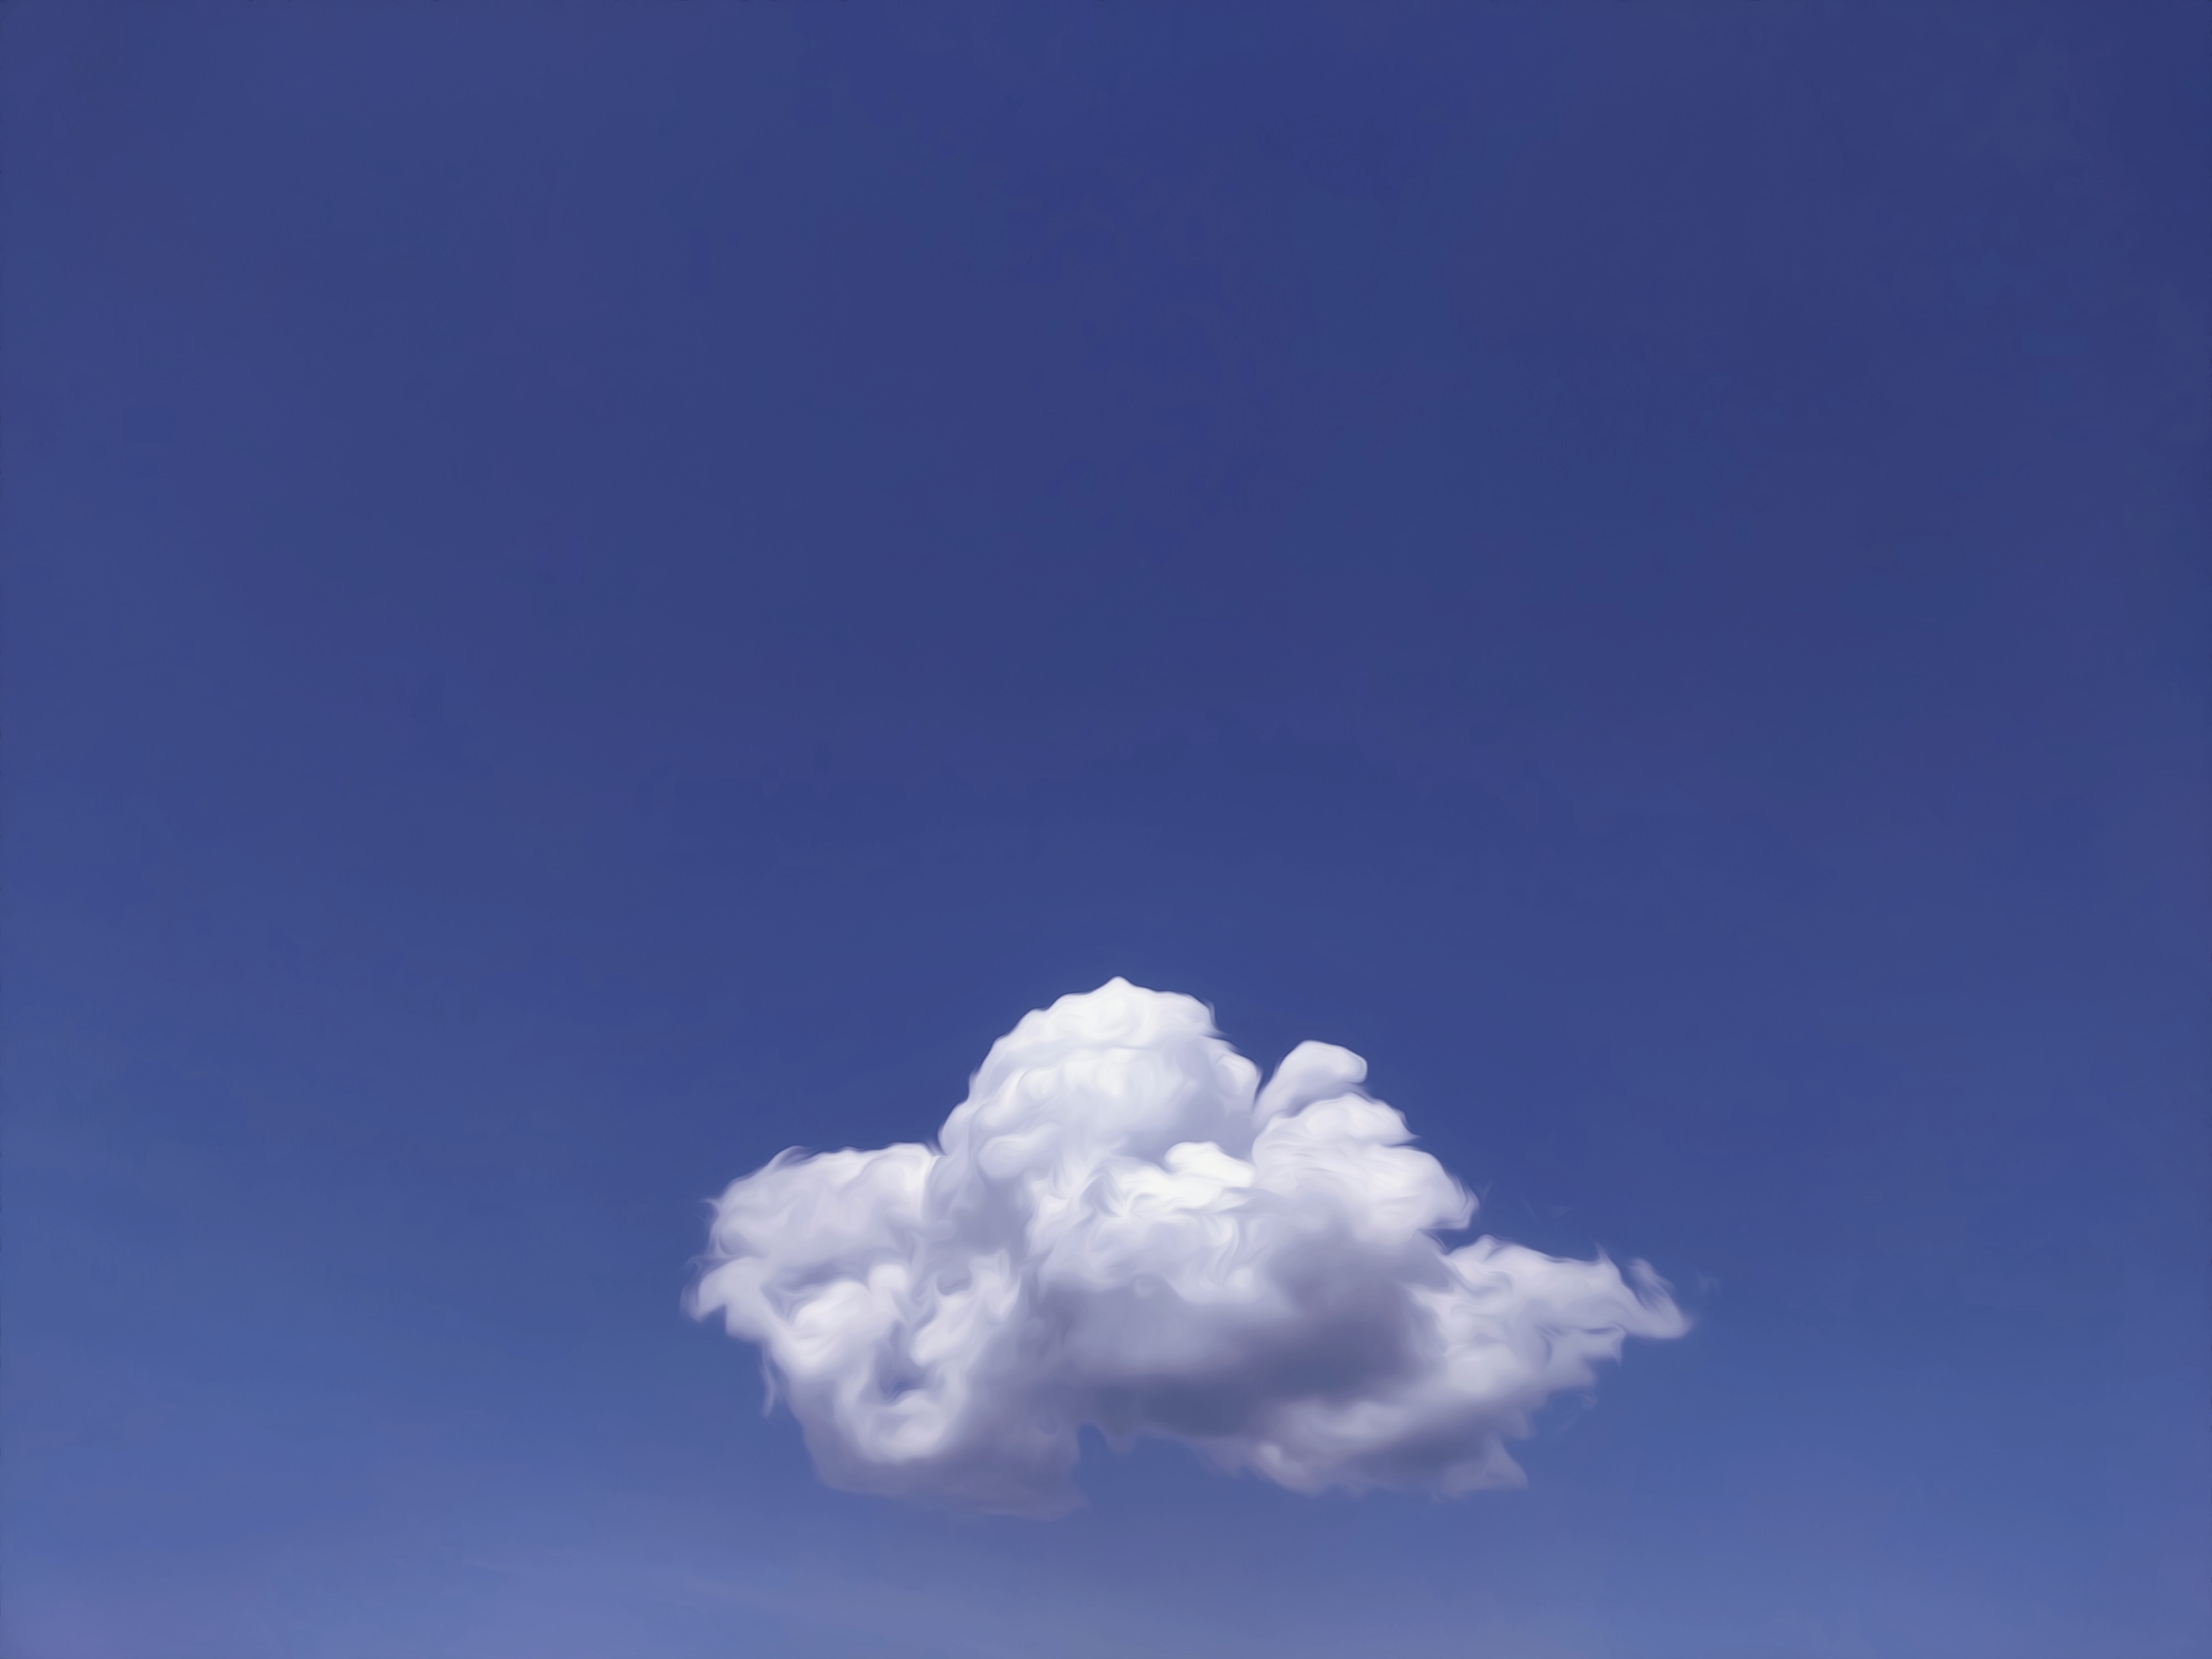Cumulus: (658, 871, 1721, 1586)
